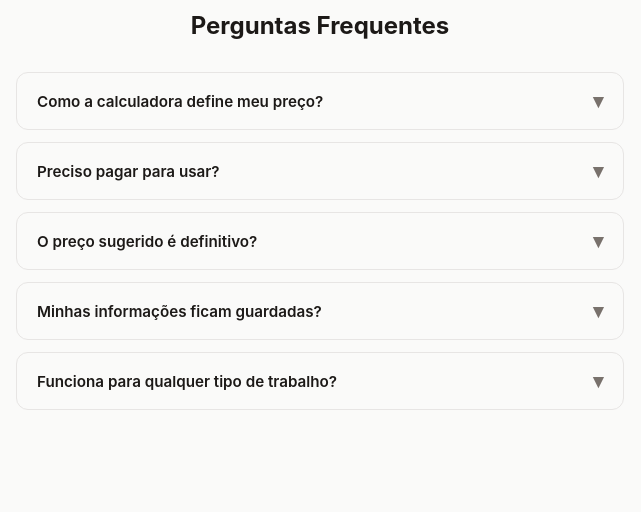
Test: FAQAccordion › clicking second question closes first (single-open)
This screenshot has width=641, height=512.
Click the button "Como a calculadora define meu preço? ▾": (320, 101) [17,73,623,129]
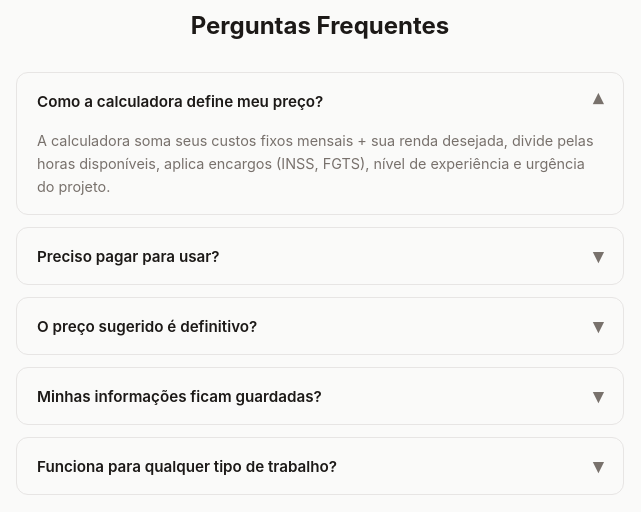
Expected: the number of elements with class "faq-answer" is 1, [17,129,623,214]
Click the button "Preciso pagar para usar? ▾": (128, 256) [17,228,623,284]
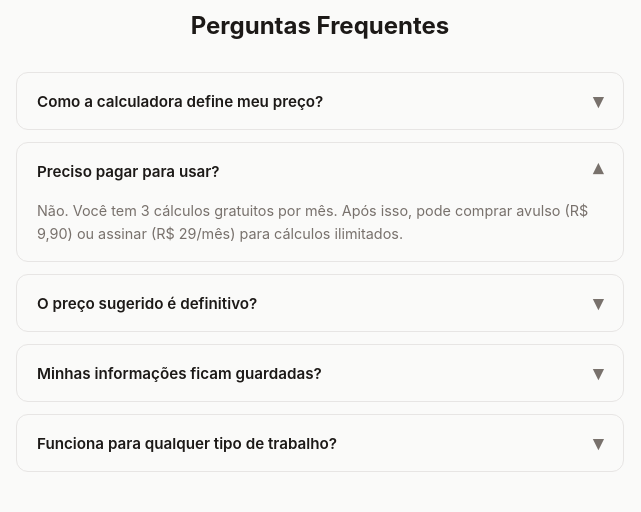
Expected: the number of elements with class "faq-answer" is 1, [17,199,623,261]
Expected: the text with class "faq-answer" shows "3 cálculos gratuitos", [37,202,588,242]
